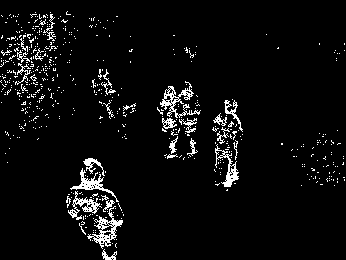person: (63, 156, 125, 260), (213, 96, 244, 188), (178, 82, 201, 158), (158, 86, 178, 159), (92, 68, 116, 119)
